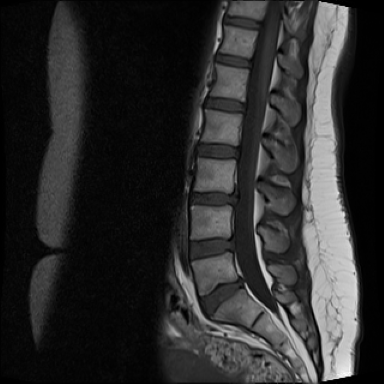Lumbar Disc Bulge (LDB): (195, 273, 248, 322), (181, 185, 244, 210)
Normal IVD: (184, 229, 238, 265), (187, 135, 247, 164), (193, 91, 251, 118), (208, 49, 257, 72), (219, 13, 266, 33)
Spinal Stenosis (SS): (224, 184, 248, 212), (235, 267, 251, 298)
